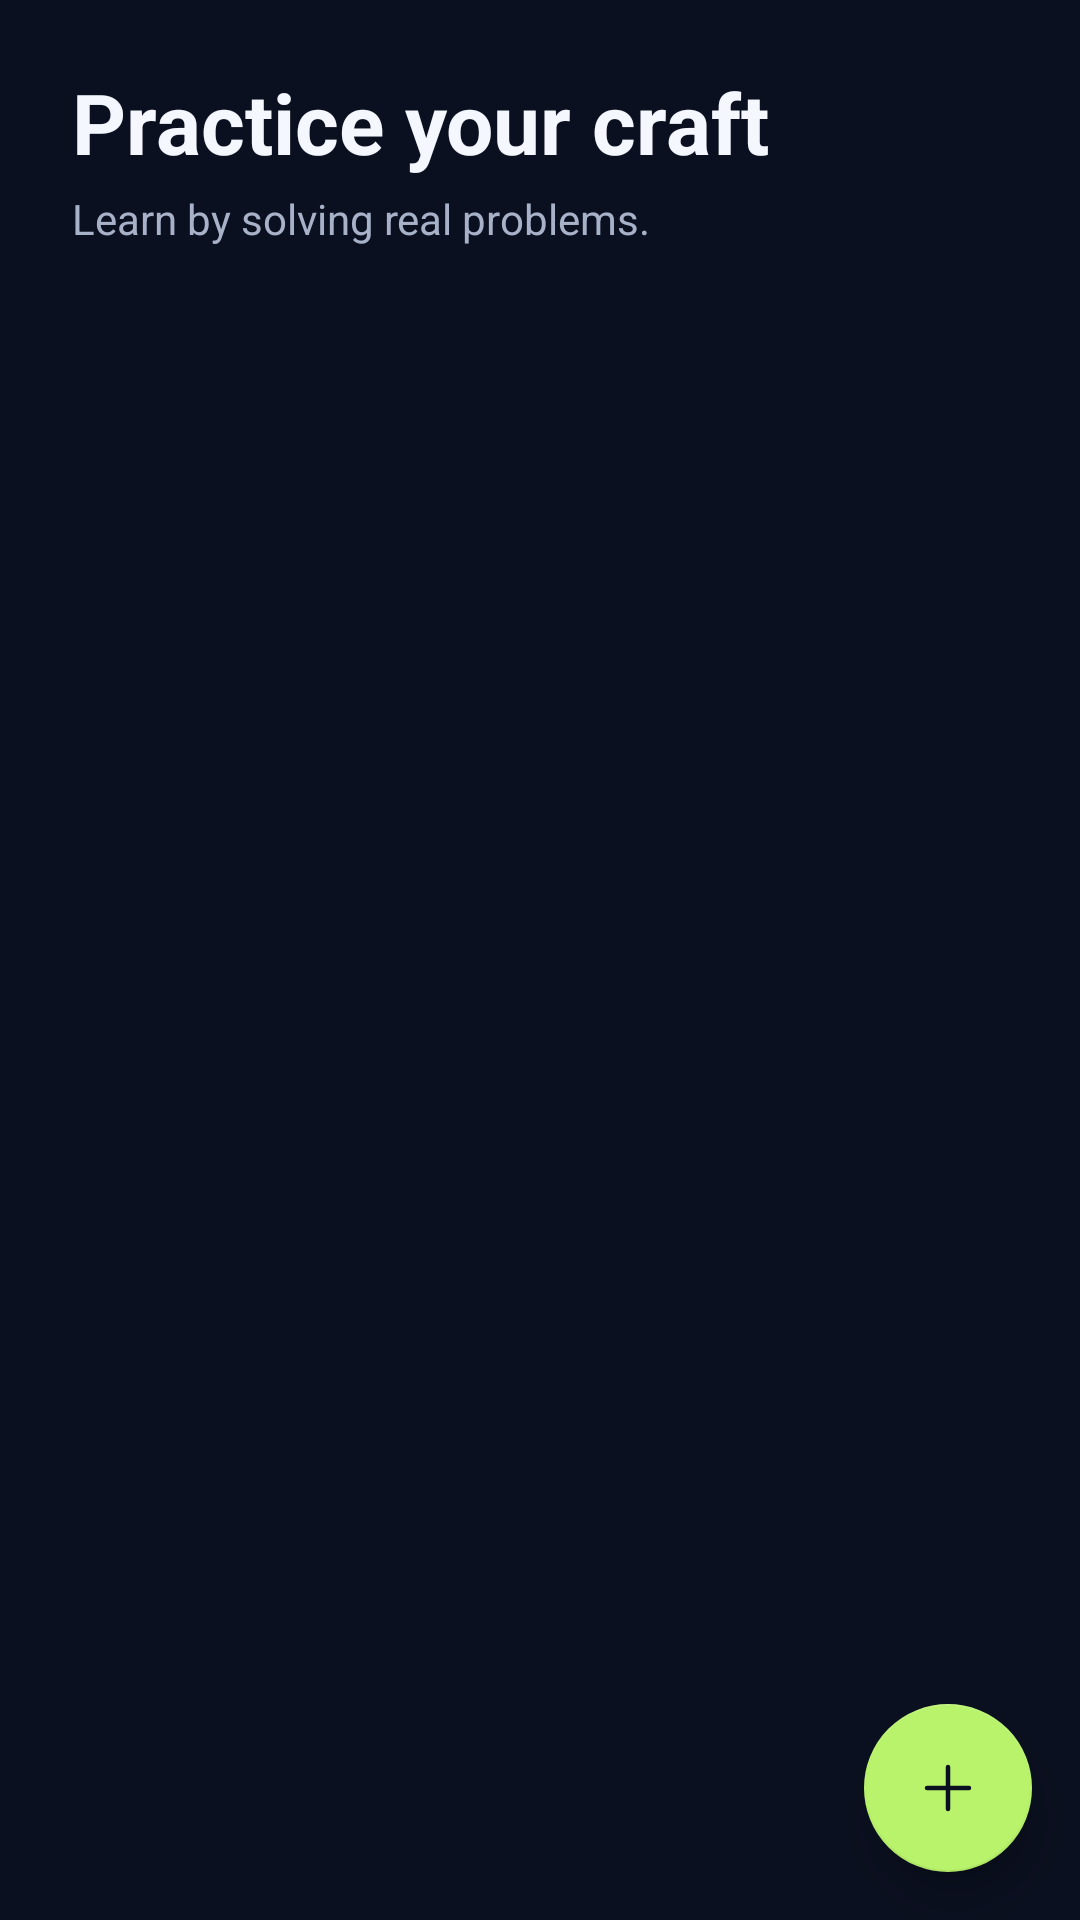

Icons on this 1080×1920 Android screen, each with the point to tap as (x,y):
Create new exercise: (948,1788)
